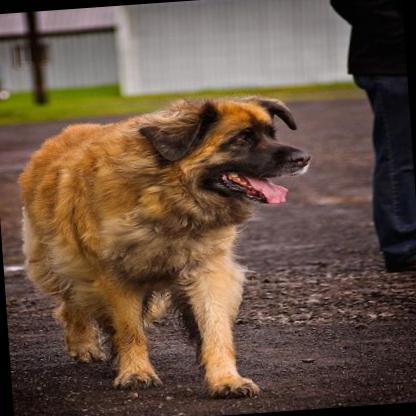Leonberg: (11, 89, 329, 408)
